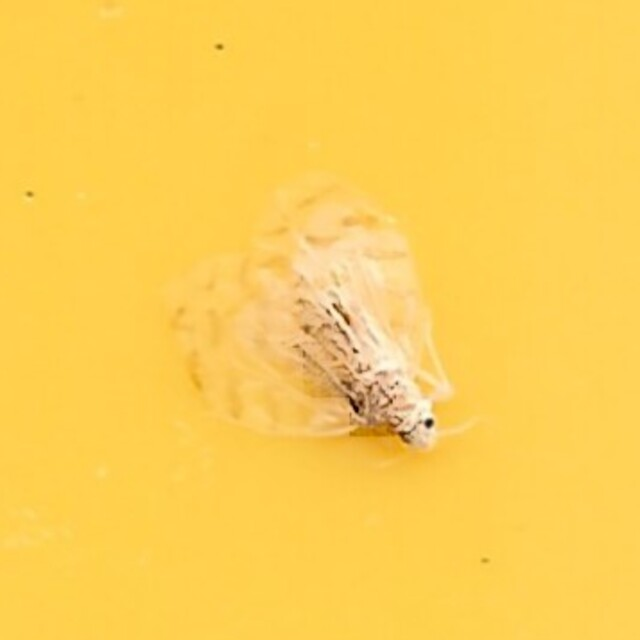Hemiptera: (179, 185, 461, 455)
